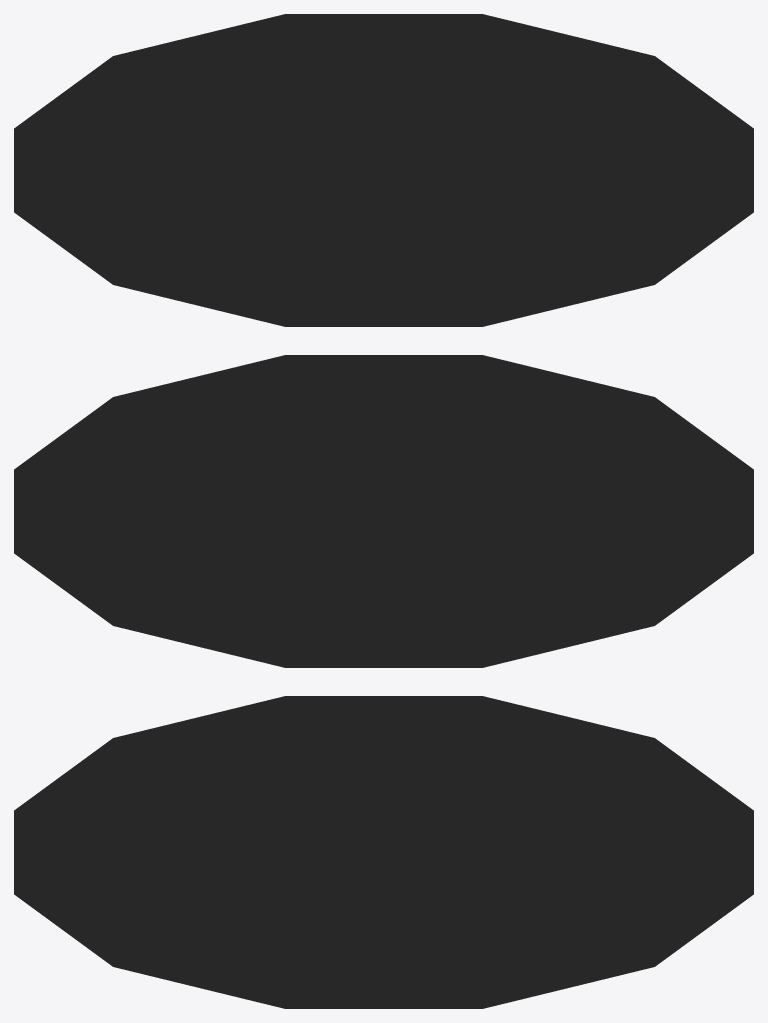
File: Shadow.fbx
3 renders of one model, top to bottom at view 1: azimuth 30°, elevation 25°; view 2: azimuth 150°, elevation 25°; view 3: azimuth 270°, elevation 25°, orthographic.
Visible parts, largest first — view 1: circle; view 2: circle; view 3: circle.
Part boxes in pixels (x1=…): circle: x1=14, y1=14, x2=753, y2=326; circle: x1=14, y1=355, x2=753, y2=667; circle: x1=14, y1=696, x2=753, y2=1008.
Size of the model in its own units: 100 by 0 by 100.
1 material, 1 textured.
